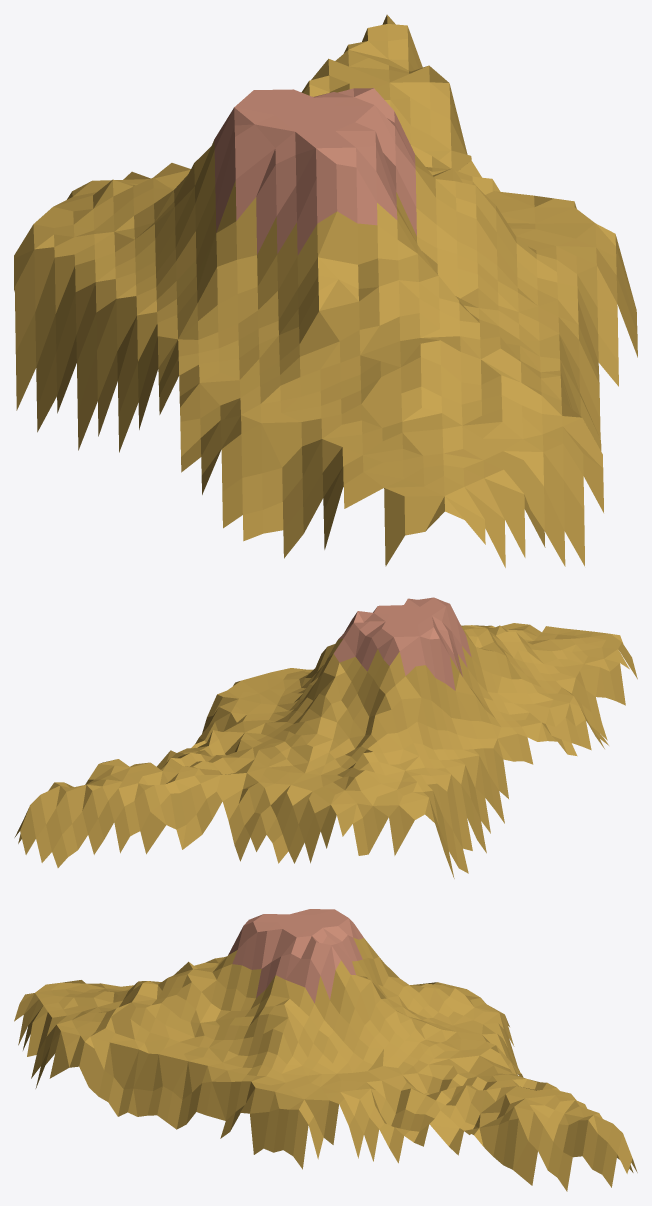
The model's file is CanyonTrack4.fbx.
3 renders of one model, top to bottom at view 1: azimuth 30°, elevation 25°; view 2: azimuth 150°, elevation 25°; view 3: azimuth 270°, elevation 25°, orthographic. The views are drawn at different scales.
Visible parts, largest first — view 1: Landscape.001; view 2: Landscape.001; view 3: Landscape.001.
Part boxes in pixels (x1,y1,x2,y2): Landscape.001: (14, 14, 637, 567); Landscape.001: (14, 597, 637, 878); Landscape.001: (14, 909, 637, 1191).
Size of the model in its own units: 153 by 80.62 by 245.
